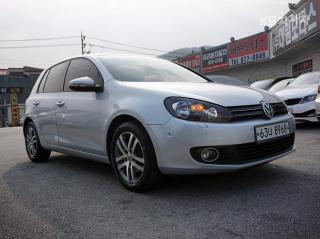3: (264, 127, 268, 137)
6: (259, 128, 265, 139), (280, 124, 285, 133)
8: (274, 126, 279, 135), (283, 124, 288, 132)
9: (278, 125, 281, 134)
너: (267, 127, 273, 136)
